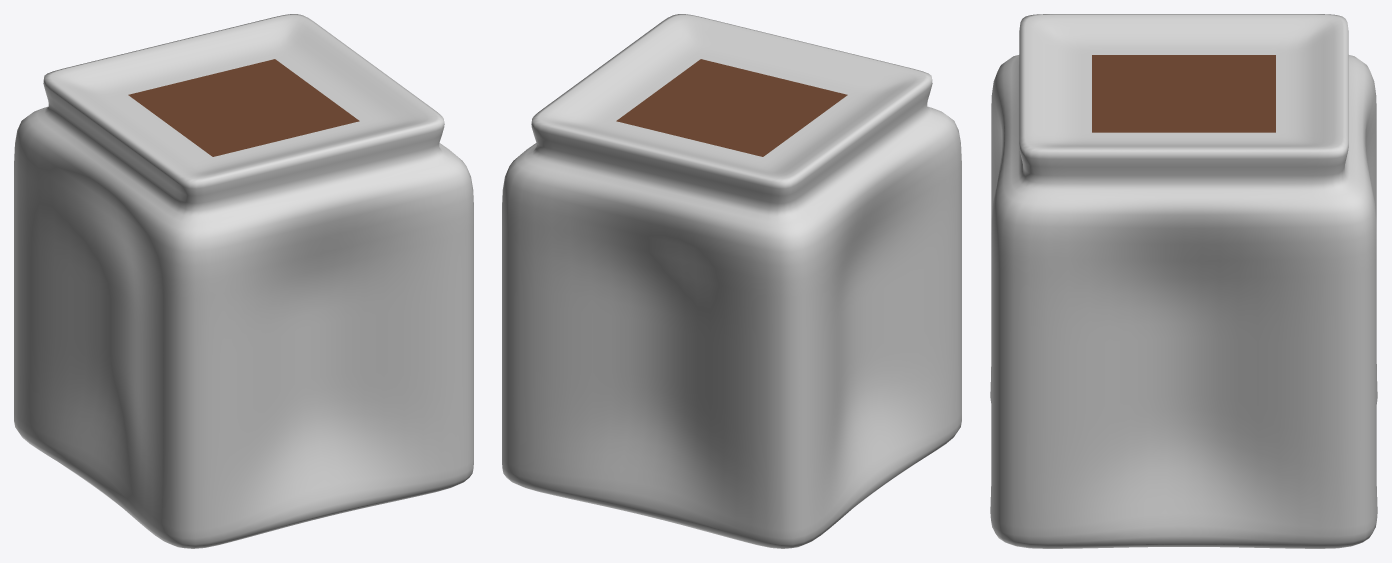
File: fbx_Pot.fbx
The picture shows the model from 3 angles, left to right: view 1: azimuth 30°, elevation 25°; view 2: azimuth 150°, elevation 25°; view 3: azimuth 270°, elevation 25°; orthographic projection. The views are drawn at different scales.
Visible parts, largest first — view 1: pCube2; view 2: pCube2; view 3: pCube2.
Part boxes in pixels (x1,y1,x2,y2): pCube2: (14,14,473,548); pCube2: (502,14,961,548); pCube2: (990,14,1377,548).
Bounding box in the file's own units: 13.15 × 14.77 × 13.15.
